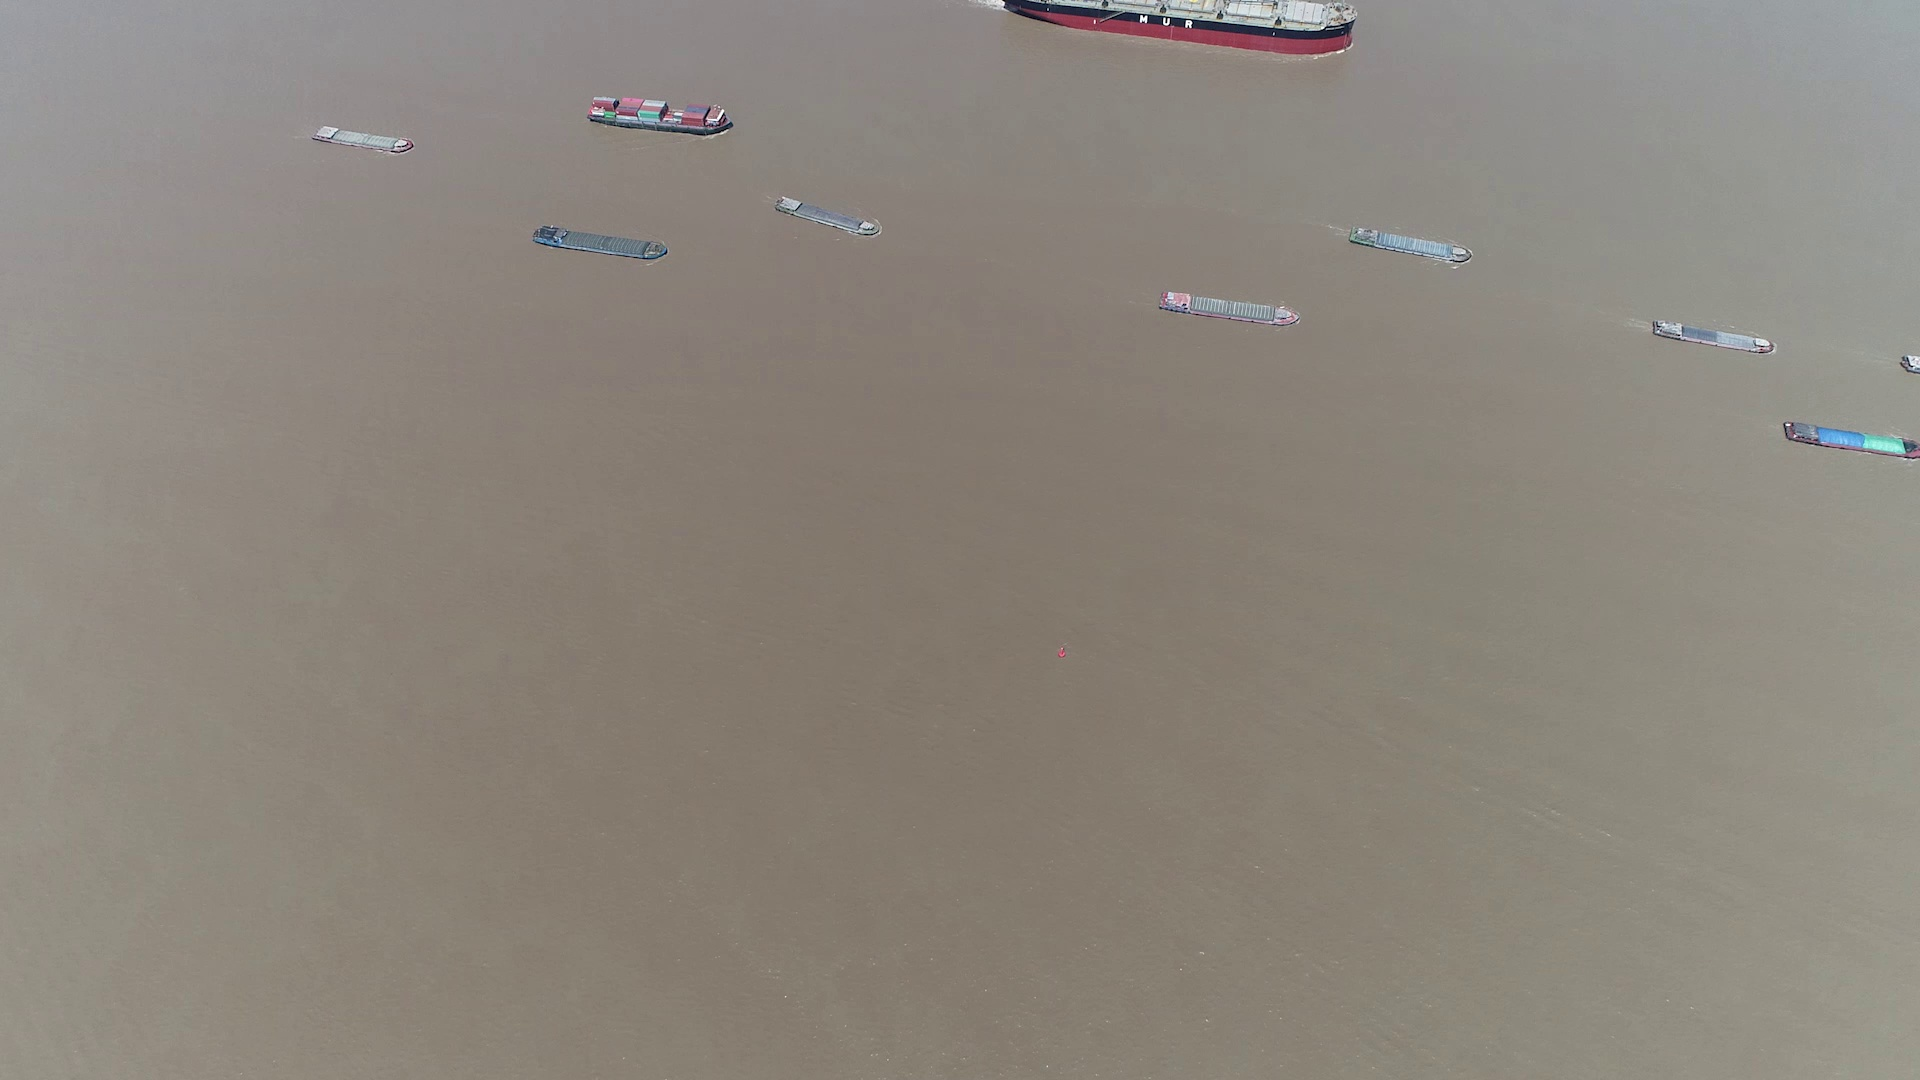ship: (998, 0, 1358, 51), (1780, 418, 1919, 460), (587, 95, 735, 135), (1159, 289, 1300, 327), (531, 225, 667, 262), (1348, 227, 1472, 265), (775, 196, 884, 239), (1650, 318, 1772, 353), (311, 123, 413, 154), (1898, 349, 1919, 375)
